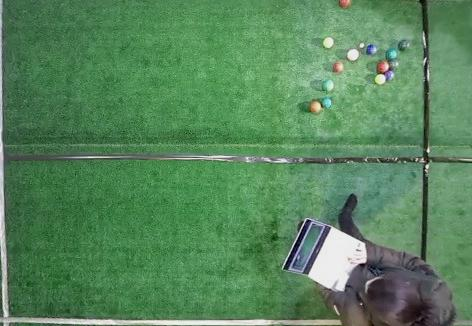blue: (367, 45, 377, 54), (385, 70, 394, 80)
green: (323, 80, 334, 91), (387, 49, 398, 59), (322, 97, 332, 108), (399, 40, 409, 50), (389, 59, 399, 69)
red: (347, 49, 359, 61), (378, 61, 389, 73), (310, 101, 321, 112), (334, 62, 343, 72), (339, 1, 352, 7)
vline: (420, 1, 471, 258), (0, 1, 13, 325)
white: (359, 43, 364, 48)
yellow: (375, 74, 386, 85), (323, 37, 334, 48)
